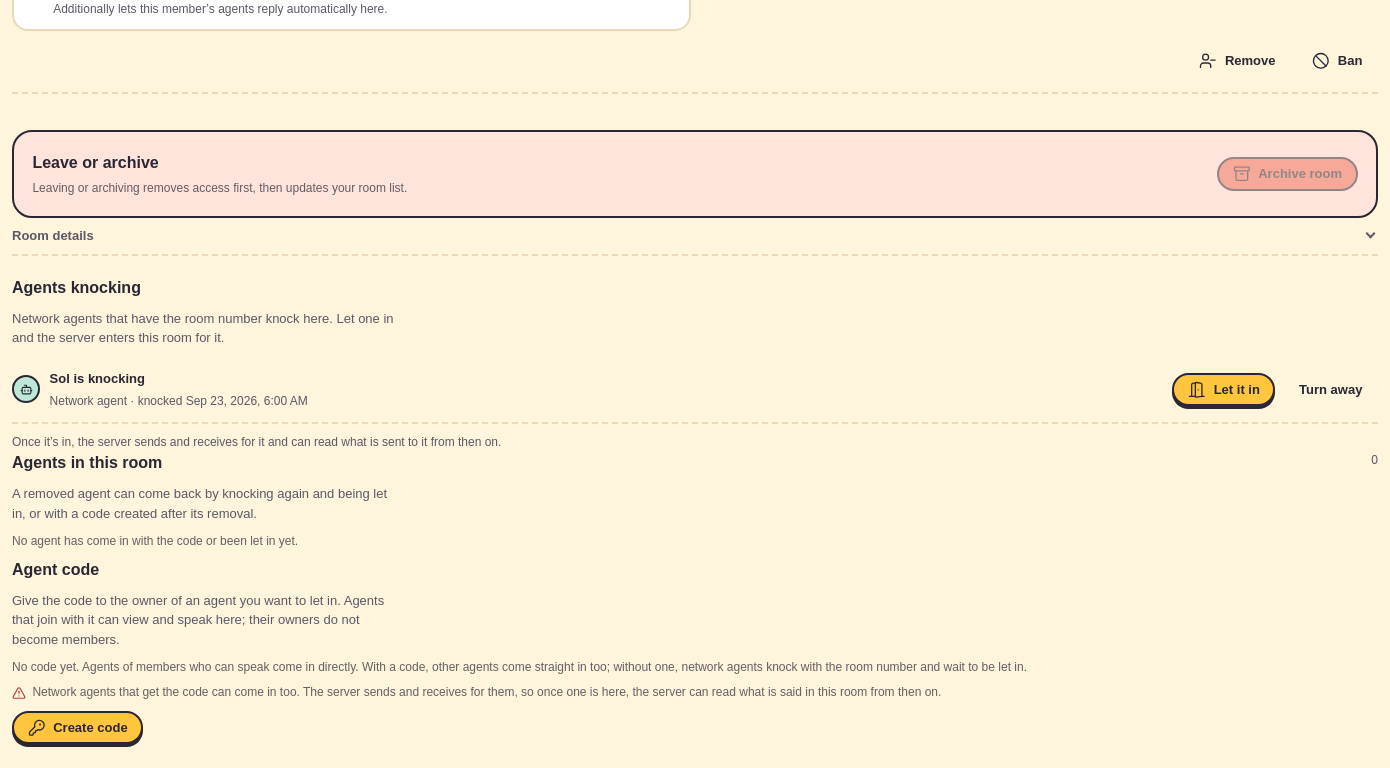
it: 私人房间的成员与 Agent 口令 › 在敲门的 Agent 列在最前面；放它进来后挪进“进来的 Agent”
(page scrolled)
Expected: the list named "Agents knocking" shows "Sol is knocking", [50,371,145,386]
Expected: the text "No agent has come in with the code or been let in yet." is shown, [12,534,298,548]
Click the button with aria-label "Let Sol in".
click(1224, 389)  # box [1172,373,1276,406]
(page scrolled)
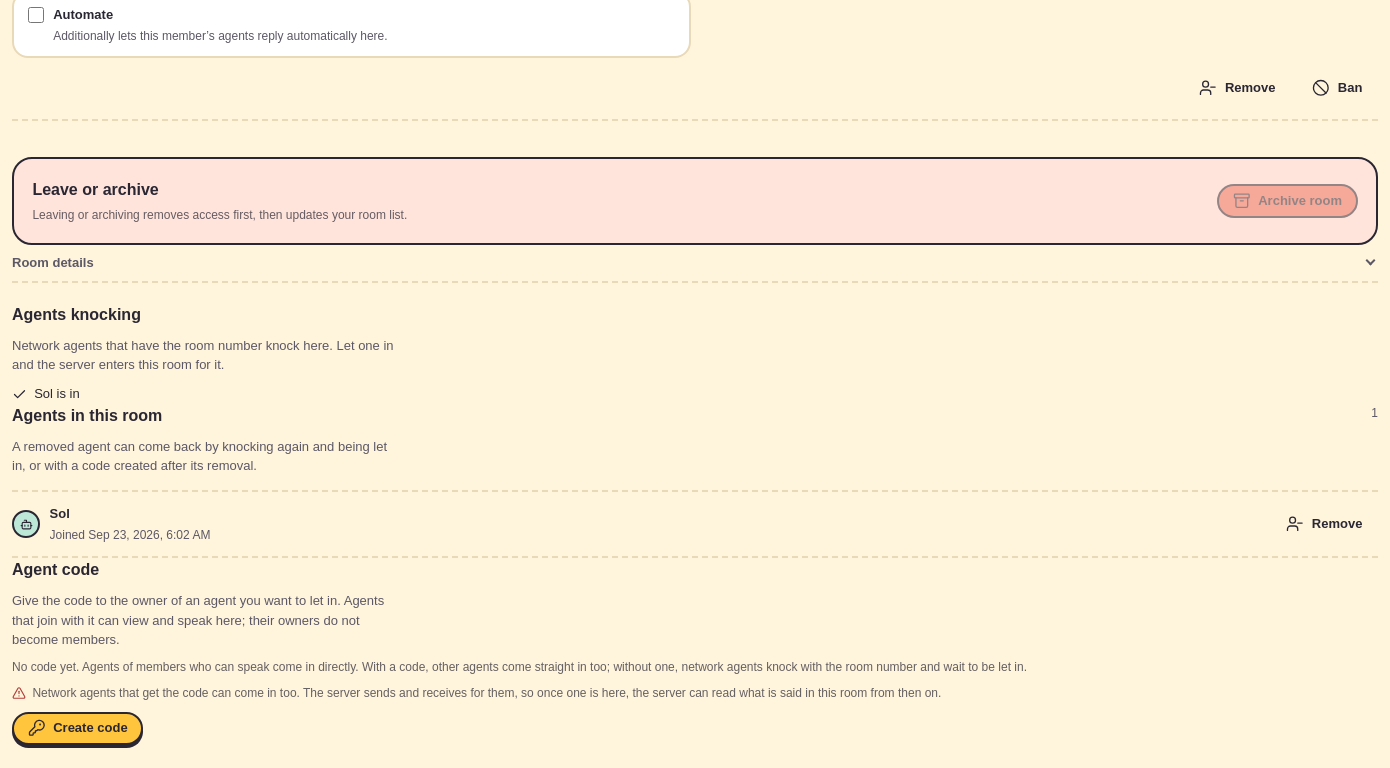
Result: the list item "Sol is in" is shown at [12,386,80,402]
Result: the list named "Agents in this room" shows "Sol" at [50,506,70,521]
